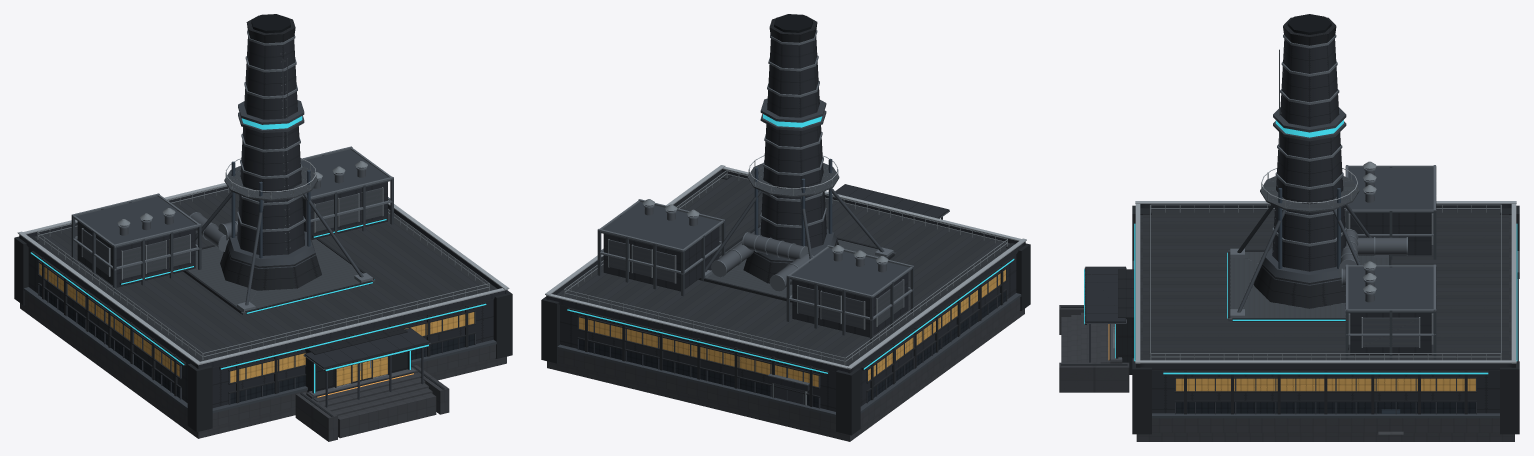
The model's file is townhall-cyberpunk-built.glb.
The picture shows the model from 3 angles, left to right: view 1: azimuth 30°, elevation 25°; view 2: azimuth 150°, elevation 25°; view 3: azimuth 270°, elevation 25°; orthographic projection. The views are drawn at different scales.
Size of the model in its own units: 47.6 by 45.95 by 56.56.
40 materials, 29 textured.
